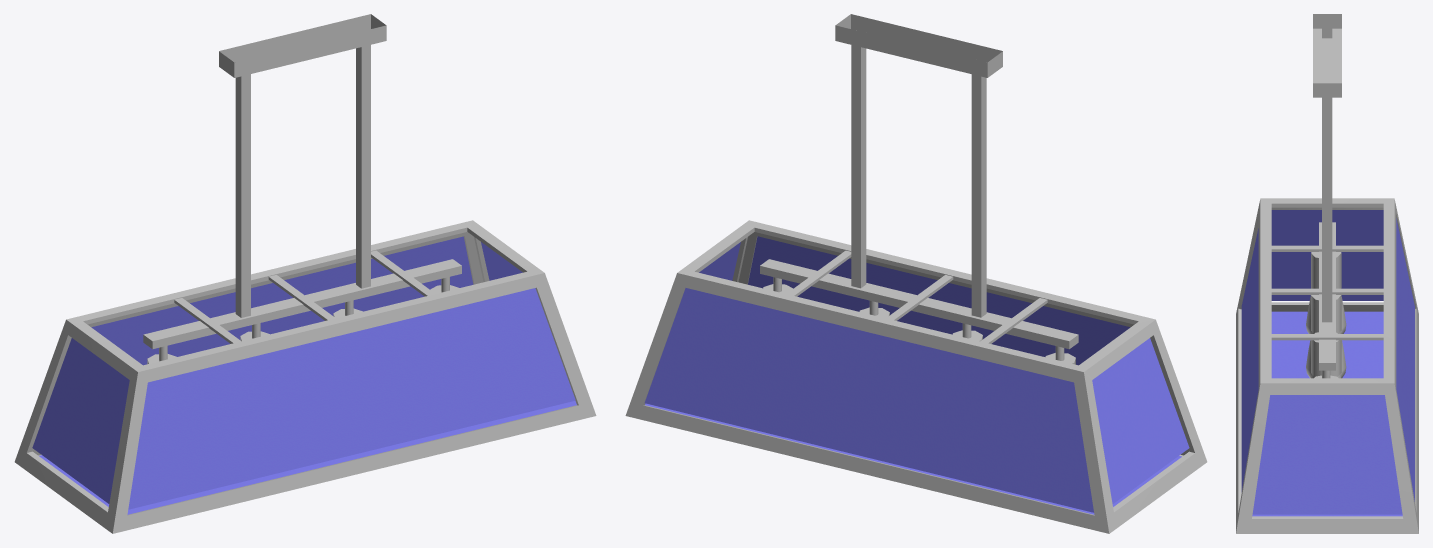
File: MeetingLight.fbx
3 renders of one model, left to right at view 1: azimuth 30°, elevation 25°; view 2: azimuth 150°, elevation 25°; view 3: azimuth 270°, elevation 25°, orthographic. The views are drawn at different scales.
Parts seen in each view (by area): view 1: MeetingGlass, MeetingLight; view 2: MeetingGlass, MeetingLight; view 3: MeetingGlass, MeetingLight, MeetingLightBulb__1_, MeetingLightBulb.
Part boxes in pixels (x1,y1,x2,y2): MeetingGlass: (32,236,576,514); MeetingLight: (14,14,596,533); MeetingGlass: (644,236,1189,514); MeetingLight: (625,14,1207,533); MeetingGlass: (1241,210,1414,516); MeetingLight: (1236,14,1418,533); MeetingLightBulb__1_: (1306,332,1346,378); MeetingLightBulb: (1306,295,1346,333).
Bounding box in the file's own units: 201 × 159 × 70.47.
